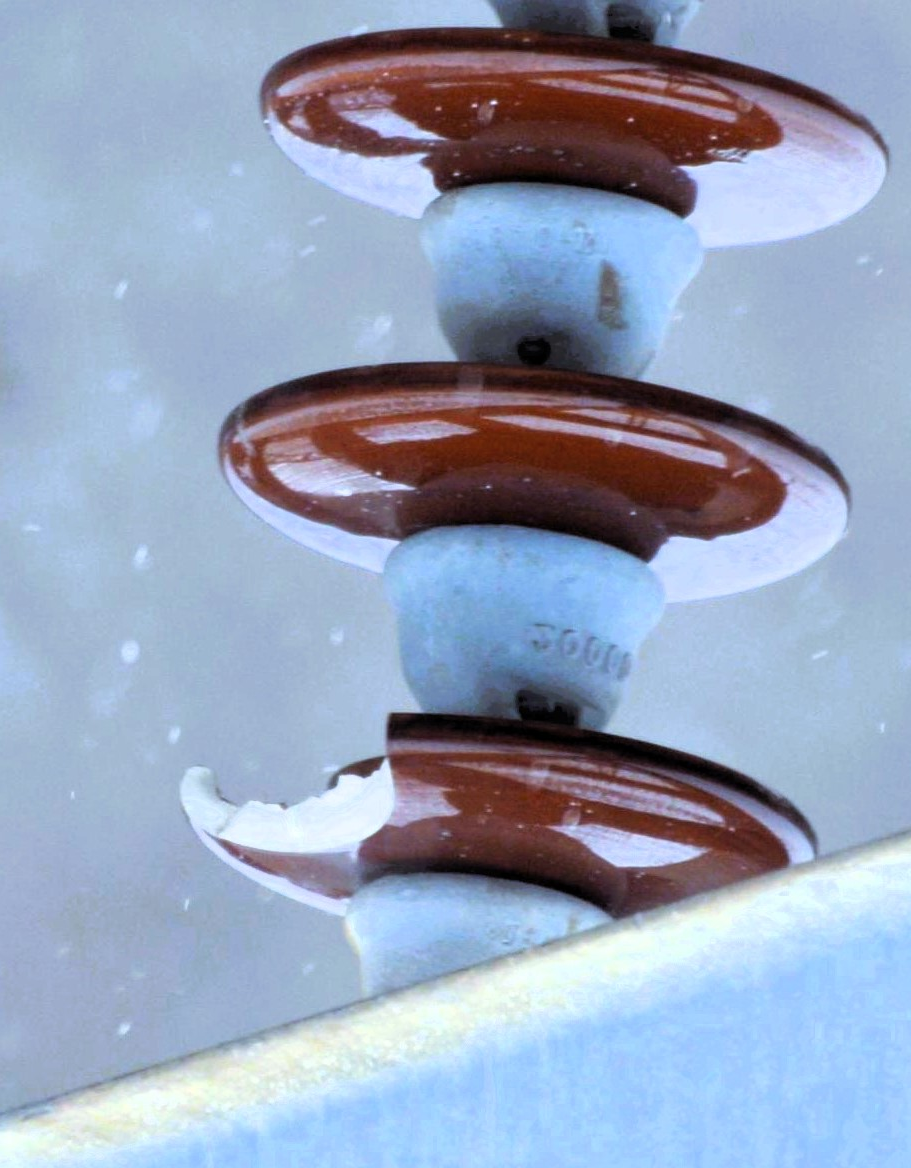insulator breakage: (160, 698, 839, 953)
